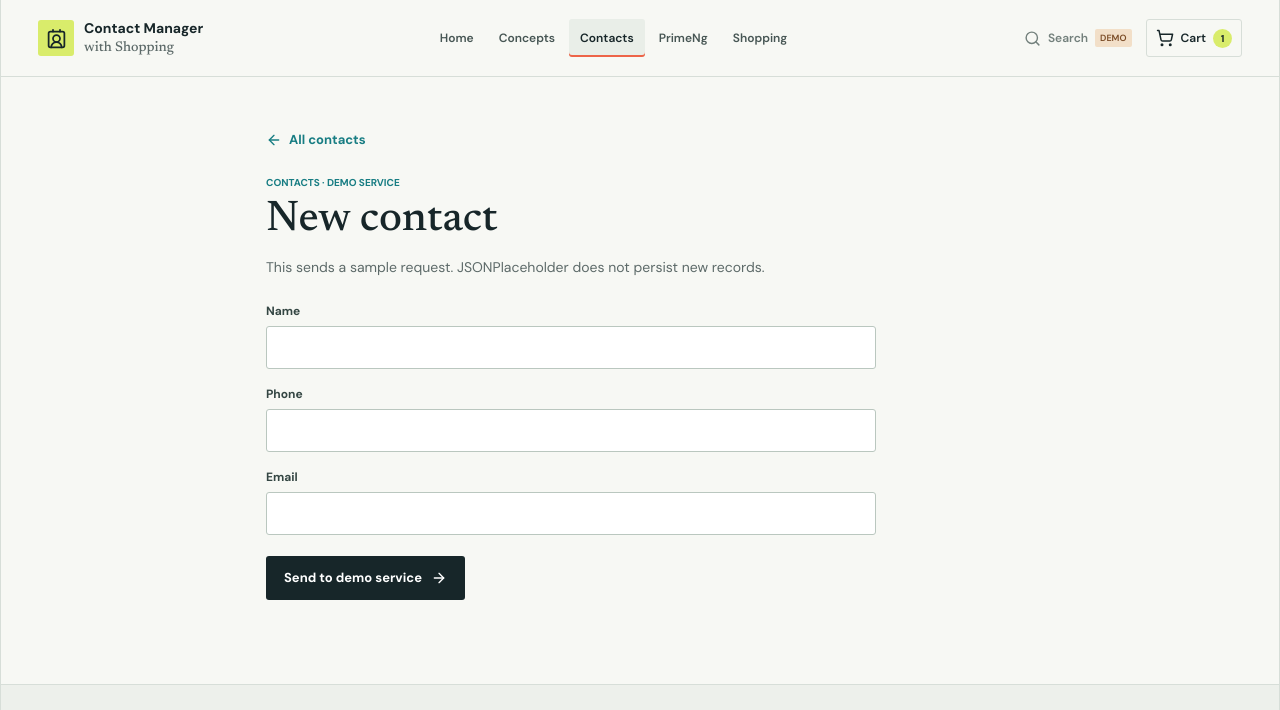
Scenario: application routes and shared flows › blocks invalid contact submissions before making a request
Click the button "Send to demo service" at (366, 578), box [266,556,465,600]
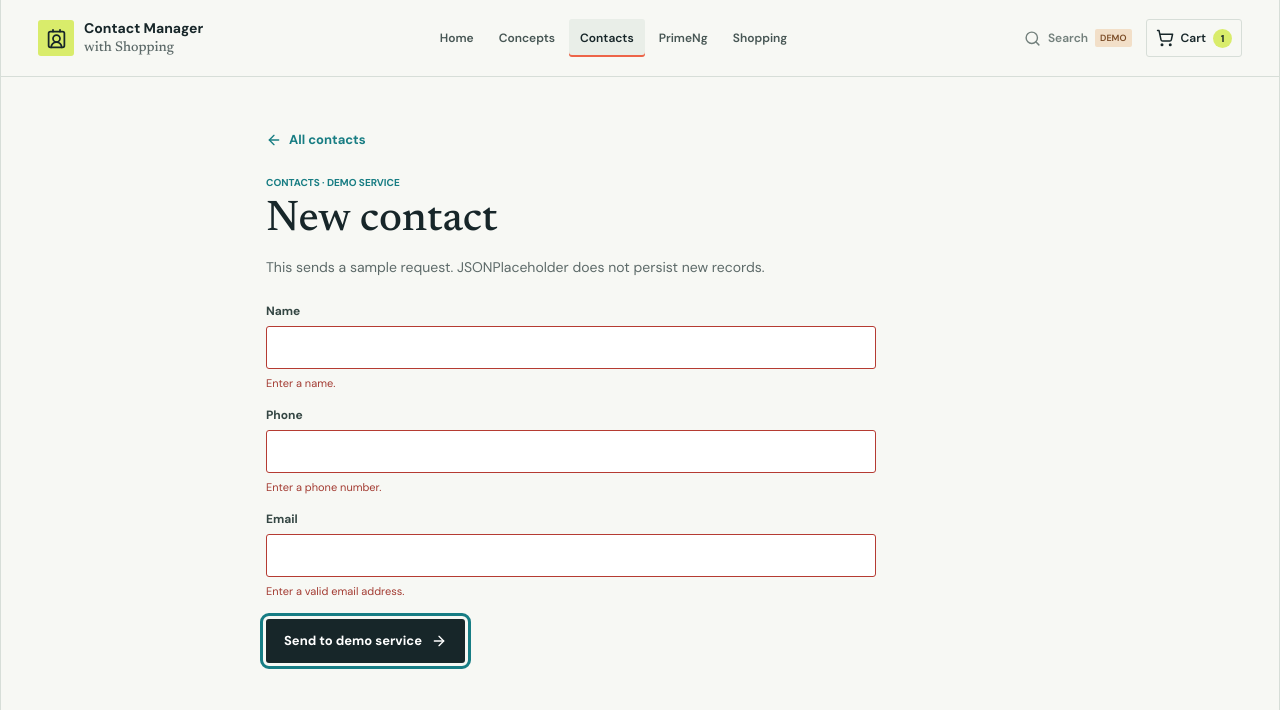
Now the text "Enter a name." is shown, box [266,376,335,390]
Now the text "Enter a phone number." is shown, box [266,480,381,494]
Now the text "Enter a valid email address." is shown, box [266,584,404,598]
